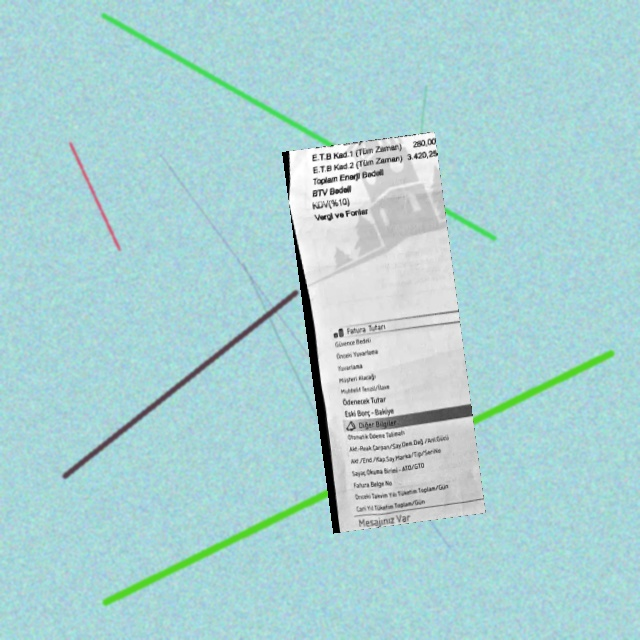electricity-bill: (282, 131, 486, 533)
